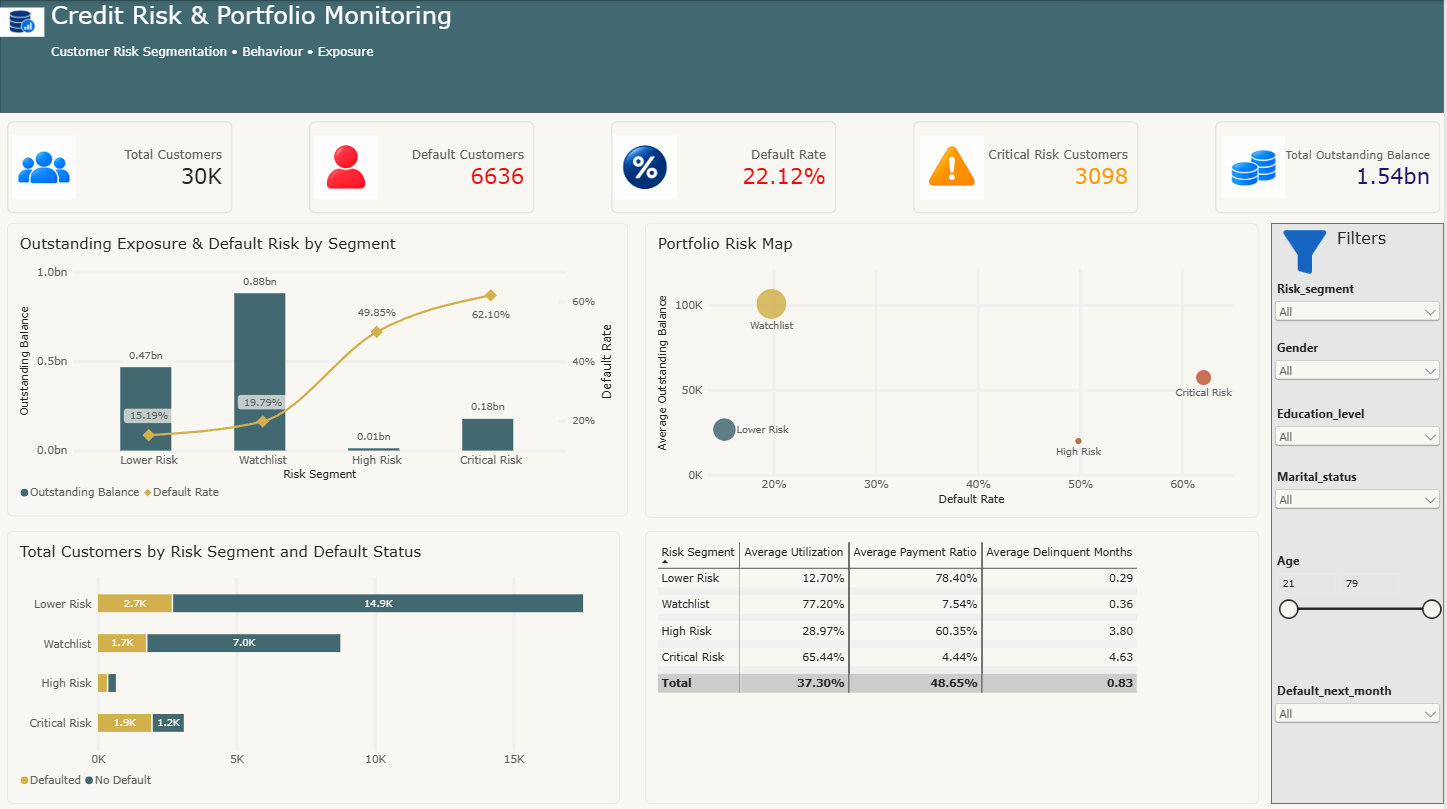

This screenshot's page, from the dashboard's own definition file:
{"tool":"powerbi","page":{"name":"Page 1","canvas":[1920,1080],"ordinal":0},"visuals":[{"type":"cardVisual","fields":{"Data":["credit_risk_analysis vw_credit_risk_analysis.Total Customers"]},"box":[9.3,160.9,300,123.7],"z":0},{"type":"cardVisual","fields":{"Data":["credit_risk_analysis vw_credit_risk_analysis.Default Customers"]},"box":[411.1,160.6,300,123.8],"z":1000},{"type":"cardVisual","fields":{"Data":["credit_risk_analysis vw_credit_risk_analysis.Default Rate"]},"box":[812.9,160.9,300,123.8],"z":2000},{"type":"cardVisual","fields":{"Data":["credit_risk_analysis vw_credit_risk_analysis.Total Outstanding Balance"]},"box":[1616.5,160.6,300,123.8],"z":3000},{"type":"cardVisual","fields":{"Data":["credit_risk_analysis vw_credit_risk_analysis.Critical Risk Customers"]},"box":[1214.7,160.6,300,123.8],"z":4000},{"type":"shape","box":[0,0,1920,150.3],"z":5000},{"type":"lineClusteredColumnComboChart","title":"Outstanding Exposure & Default Risk by Segment","fields":{"Category":["Risk Segments.Risk Segment"],"Y":["Sum(credit_risk_analysis vw_credit_risk_analysis.outstanding_balance)"],"Y2":["credit_risk_analysis vw_credit_risk_analysis.Default Rate"]},"box":[9.3,296.6,826,389.7],"z":6000},{"type":"barChart","fields":{"Category":["Risk Segments.Risk Segment"],"Series":["credit_risk_analysis vw_credit_risk_analysis.Default Status"],"Y":["credit_risk_analysis vw_credit_risk_analysis.Total Customers"]},"box":[9.3,706.3,815.3,363.1],"z":7000},{"type":"scatterChart","title":"Portfolio Risk Map","fields":{"Category":["Risk Segments.Risk Segment"],"Size":["credit_risk_analysis vw_credit_risk_analysis.Total Outstanding Balance"],"X":["credit_risk_analysis vw_credit_risk_analysis.Default Rate"],"Y":["credit_risk_analysis vw_credit_risk_analysis.Average Outstanding Balance"]},"box":[857.6,296.2,816.3,392],"z":8000},{"type":"pivotTable","fields":{"Rows":["Risk Segments.Risk Segment"],"Values":["credit_risk_analysis vw_credit_risk_analysis.Average Utilization","credit_risk_analysis vw_credit_risk_analysis.Average Payment Ratio","credit_risk_analysis vw_credit_risk_analysis.Average Delinquent Months"]},"box":[857.9,706.3,816.7,363.1],"z":9000},{"type":"textbox","box":[67.8,0,563.2,116.7],"z":10000},{"type":"textbox","box":[67.8,58.5,595.3,74.4],"z":11000},{"type":"shape","box":[1690.5,296.6,230.1,772.8],"z":12000},{"type":"image","box":[0,0,58.5,58.5],"z":13000},{"type":"slicer","fields":{"Values":["credit_risk_analysis vw_credit_risk_analysis.risk_segment"]},"box":[1690.1,372.8,229.9,78.1],"z":14000},{"type":"slicer","fields":{"Values":["credit_risk_analysis vw_credit_risk_analysis.gender"]},"box":[1690.1,450.9,229.9,73.7],"z":15000},{"type":"slicer","fields":{"Values":["credit_risk_analysis vw_credit_risk_analysis.education_level"]},"box":[1690.1,539.3,229.9,69.3],"z":16000},{"type":"slicer","fields":{"Values":["credit_risk_analysis vw_credit_risk_analysis.marital_status"]},"box":[1690.1,621.8,229.9,66.3],"z":17000},{"type":"slicer","fields":{"Values":["credit_risk_analysis vw_credit_risk_analysis.age"]},"box":[1690.1,733.8,229.9,160.6],"z":18000},{"type":"slicer","fields":{"Values":["credit_risk_analysis vw_credit_risk_analysis.default_next_month"]},"box":[1690.1,907.7,229.9,79.6],"z":19000},{"type":"image","box":[1673.9,296.2,122.3,76.6],"z":20000},{"type":"textbox","box":[1778.5,303.5,86.9,38.3],"z":21000},{"type":"image","box":[16,174.2,85,97.1],"z":22000},{"type":"image","box":[417.6,174.2,85,97],"z":23000},{"type":"image","box":[815.3,174.2,85,97],"z":24000},{"type":"image","box":[1223.6,174.2,85.1,97.1],"z":25000},{"type":"image","box":[1625.3,174.2,83.8,97.1],"z":26000}]}

Visuals, with their boxes in screenshot pixels (x1, y1, x2, y2), scaled from the page's 1920x1080 canvas onto the 1447x809 screenshot:
cardVisual - credit_risk_analysis vw_credit_risk_analysis.Total Customers: [7, 121, 233, 213]
cardVisual - credit_risk_analysis vw_credit_risk_analysis.Default Customers: [310, 120, 536, 213]
cardVisual - credit_risk_analysis vw_credit_risk_analysis.Default Rate: [613, 121, 839, 213]
cardVisual - credit_risk_analysis vw_credit_risk_analysis.Total Outstanding Balance: [1218, 120, 1444, 213]
cardVisual - credit_risk_analysis vw_credit_risk_analysis.Critical Risk Customers: [915, 120, 1142, 213]
shape: [0, 0, 1446, 113]
"Outstanding Exposure & Default Risk by Segment" lineClusteredColumnComboChart: [7, 222, 630, 514]
barChart - Risk Segments.Risk Segment x credit_risk_analysis vw_credit_risk_analysis.Default Status: [7, 529, 621, 801]
"Portfolio Risk Map" scatterChart: [646, 222, 1262, 516]
pivotTable - Risk Segments.Risk Segment x credit_risk_analysis vw_credit_risk_analysis.Average Utilization: [647, 529, 1262, 801]
textbox: [51, 0, 476, 87]
textbox: [51, 44, 500, 100]
shape: [1274, 222, 1446, 801]
image: [0, 0, 44, 44]
slicer - credit_risk_analysis vw_credit_risk_analysis.risk_segment: [1274, 279, 1446, 338]
slicer - credit_risk_analysis vw_credit_risk_analysis.gender: [1274, 338, 1446, 393]
slicer - credit_risk_analysis vw_credit_risk_analysis.education_level: [1274, 404, 1446, 456]
slicer - credit_risk_analysis vw_credit_risk_analysis.marital_status: [1274, 466, 1446, 515]
slicer - credit_risk_analysis vw_credit_risk_analysis.age: [1274, 550, 1446, 670]
slicer - credit_risk_analysis vw_credit_risk_analysis.default_next_month: [1274, 680, 1446, 740]
image: [1262, 222, 1354, 279]
textbox: [1340, 227, 1406, 256]
image: [12, 130, 76, 203]
image: [315, 130, 379, 203]
image: [614, 130, 679, 203]
image: [922, 130, 986, 203]
image: [1225, 130, 1288, 203]
